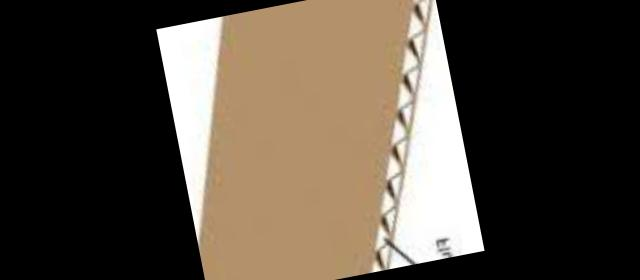cardboard paper: (197, 0, 410, 280)
